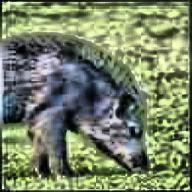boar: (0, 31, 148, 177)
